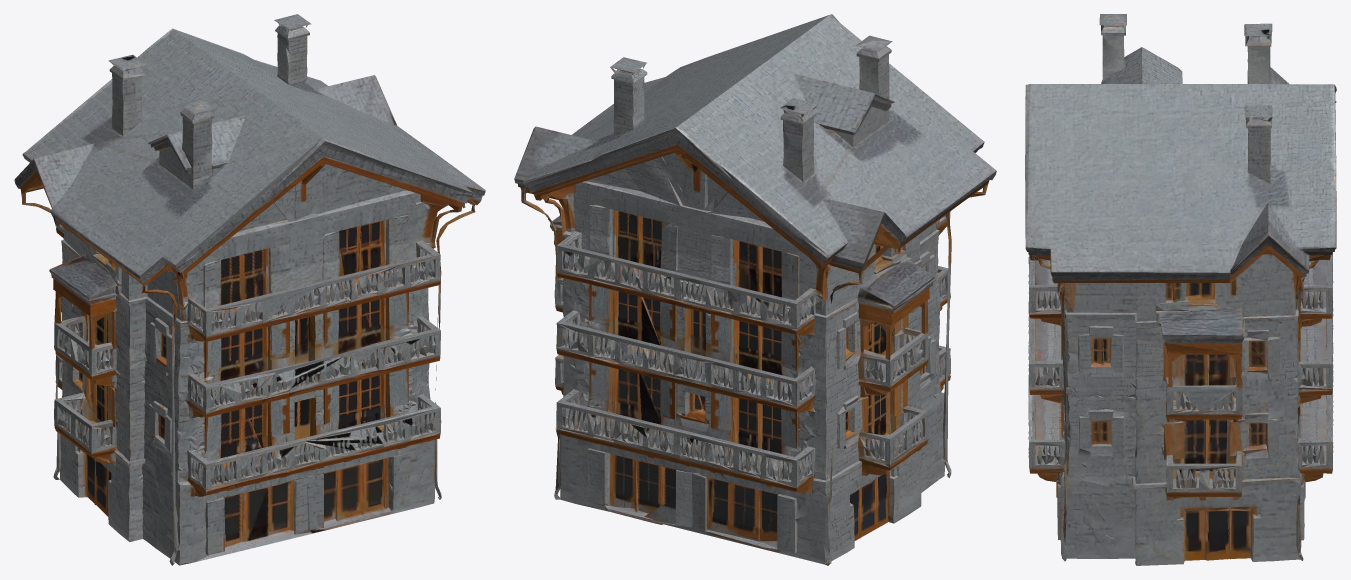
File: apartment_lodge.glb
The picture shows the model from 3 angles, left to right: view 1: azimuth 30°, elevation 25°; view 2: azimuth 150°, elevation 25°; view 3: azimuth 270°, elevation 25°; orthographic projection. The views are drawn at different scales.
Bounding box in the file's own units: 1.59 × 1.9 × 1.23.
Materials: 1 (1 with a texture image).
